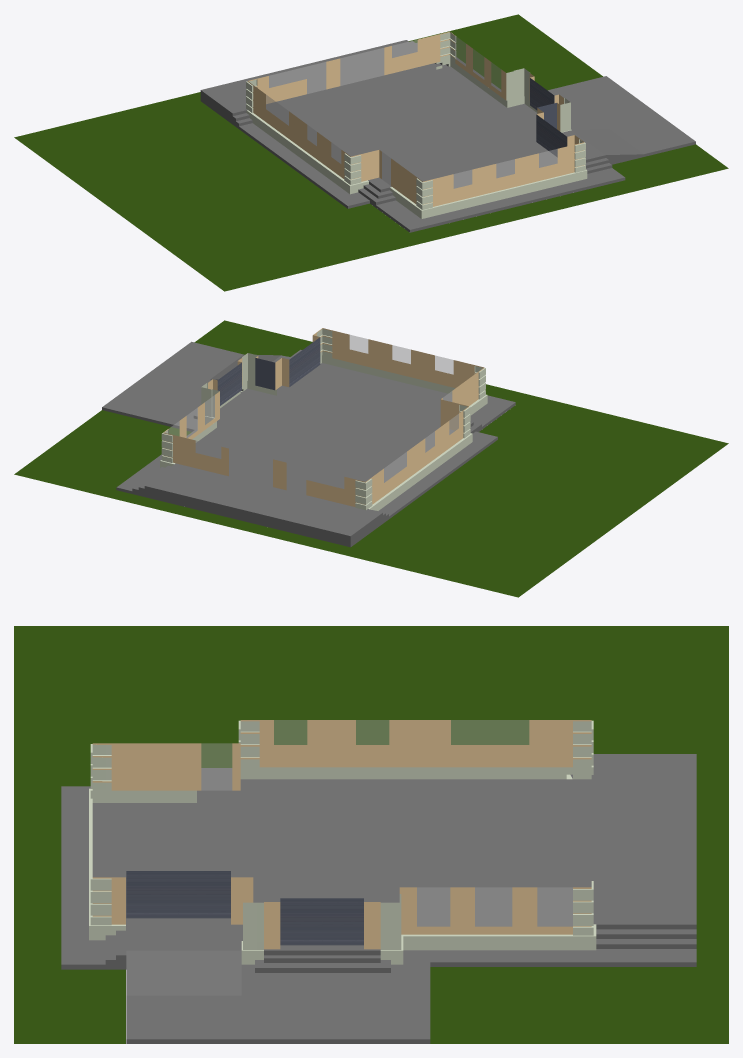
The model's file is casaStolnicu_1ST-FLOOR.glb.
3 views of the same model, one above another, from view 1: azimuth 30°, elevation 25°; view 2: azimuth 150°, elevation 25°; view 3: azimuth 270°, elevation 25° (orthographic). The views are drawn at different scales.
Visible parts, largest first — view 1: Plane; view 2: Plane; view 3: Plane.
Boxes of the visible parts, x1,y1,x2,y2 form: Plane: (14, 14, 728, 291); Plane: (14, 320, 728, 597); Plane: (14, 626, 728, 1043).
Size of the model in its own units: 28.4 by 2.1 by 20.53.
6 materials, 1 textured.
